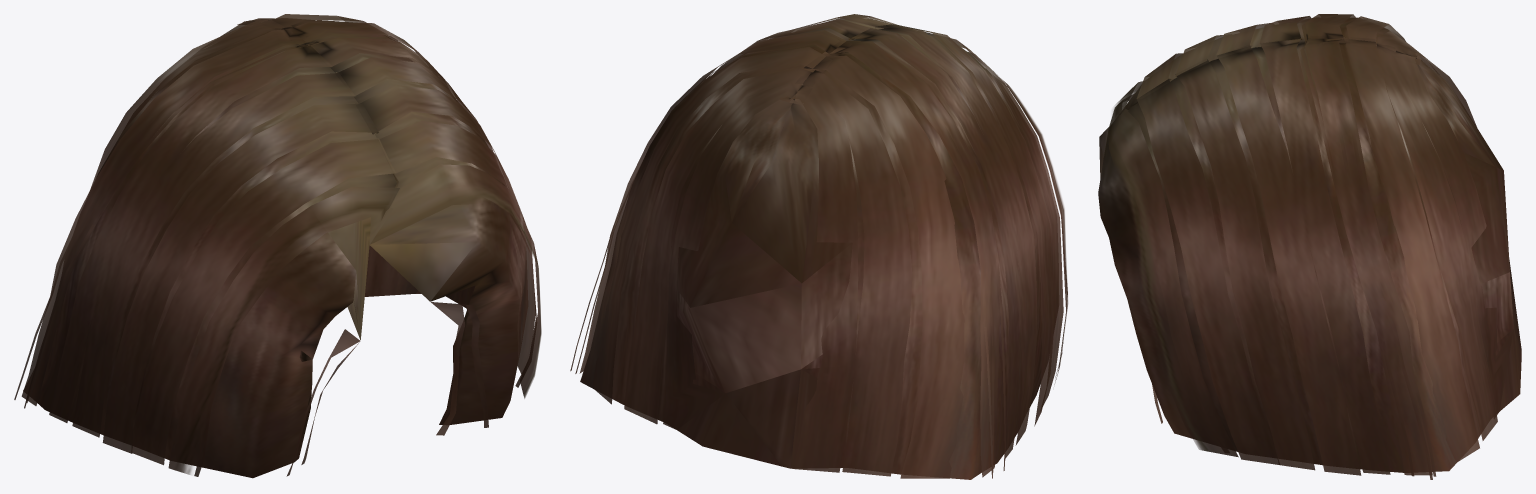
File: short-african.glb
3 renders of one model, left to right at view 1: azimuth 30°, elevation 25°; view 2: azimuth 150°, elevation 25°; view 3: azimuth 270°, elevation 25°, orthographic. The views are drawn at different scales.
Visible parts, largest first — view 1: hair_short; view 2: hair_short; view 3: hair_short.
Part boxes in pixels (x1,y1,x2,y2): hair_short: (14,14,541,478); hair_short: (570,14,1067,479); hair_short: (1098,14,1521,479).
Bounding box in the file's own units: 0.2737 × 0.209 × 0.2351.
Materials: 1 (1 with a texture image).
